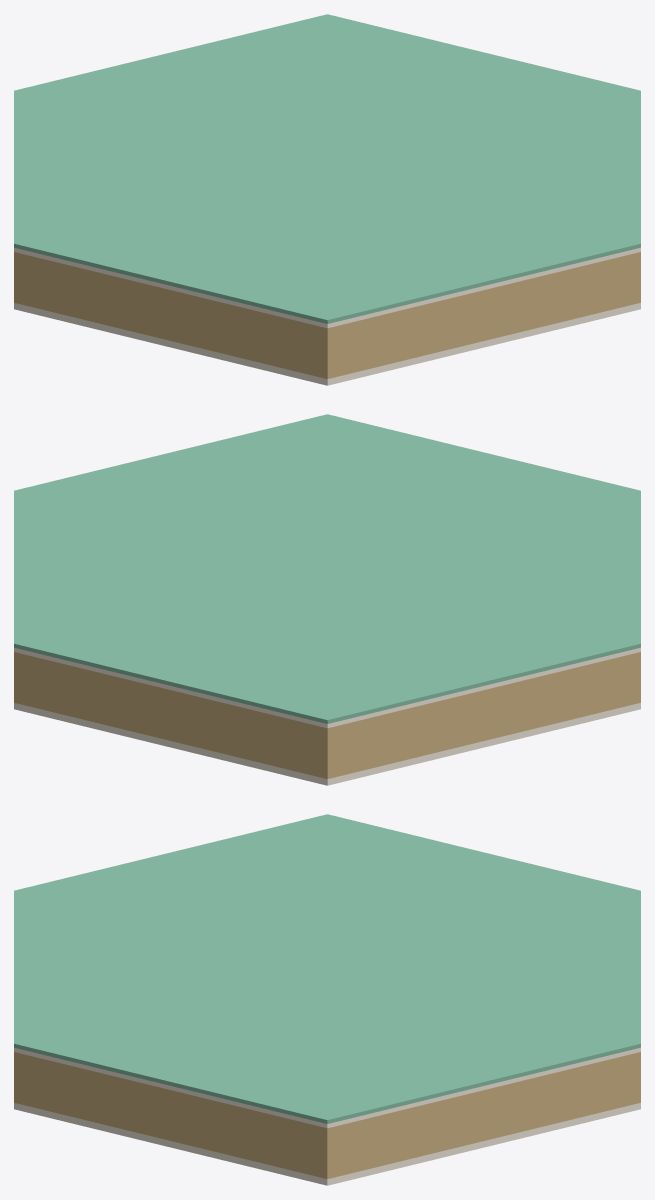
The model's file is terrain.glb.
3 renders of one model, top to bottom at view 1: azimuth 30°, elevation 25°; view 2: azimuth 150°, elevation 25°; view 3: azimuth 270°, elevation 25°, orthographic.
Visible parts, largest first — view 1: Tile_Sugar_Mint; view 2: Tile_Sugar_Mint; view 3: Tile_Sugar_Mint.
Boxes of the visible parts, x1=… form: Tile_Sugar_Mint: x1=14, y1=14, x2=640, y2=385; Tile_Sugar_Mint: x1=14, y1=414, x2=640, y2=785; Tile_Sugar_Mint: x1=14, y1=814, x2=640, y2=1185.
Size of the model in its own units: 2 by 0.2 by 1.73.
